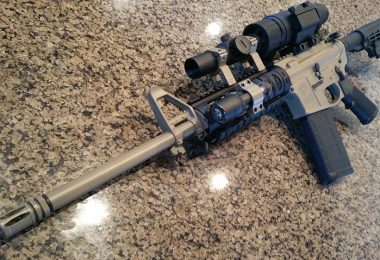Rifle: (1, 1, 379, 246)
